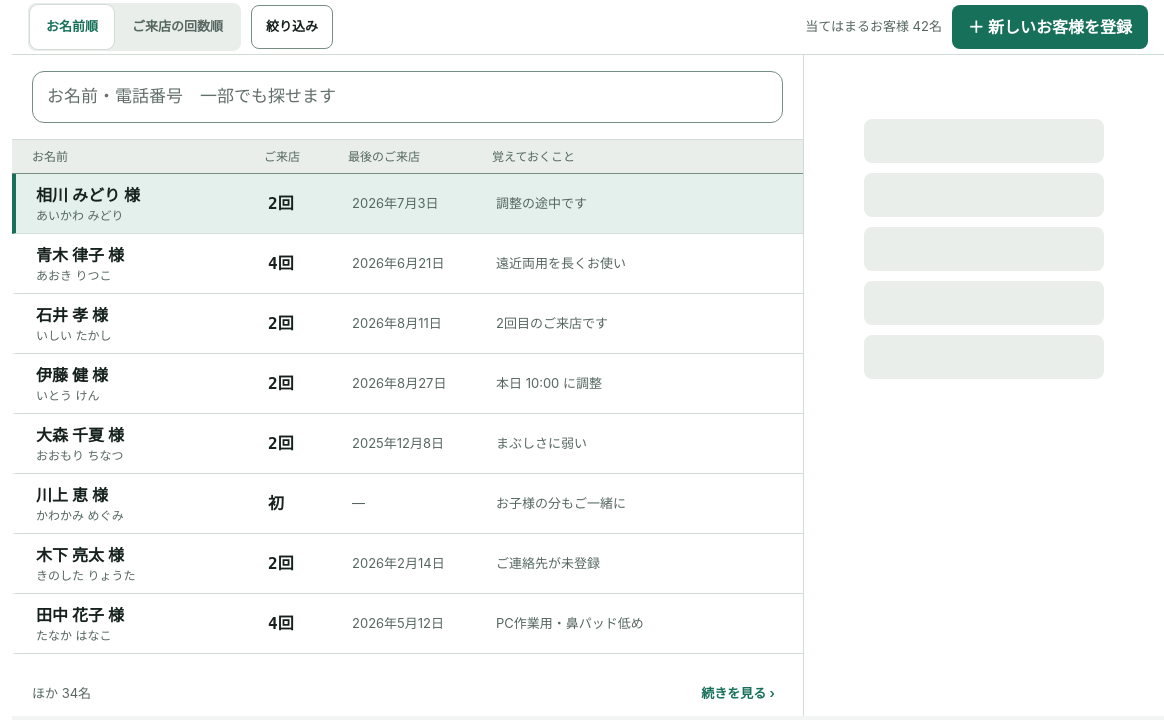
Scenario: 並べ方と絞り込み › 札を付けても、選んでいた行の選択が外れない
The width and height of the screenshot is (1164, 720).
Click the option "田中 花子 様 たなか はなこ 4回 2026年5月12日 PC作業用・鼻パッド低め".
click(408, 624)  # box [12,594,803,654]
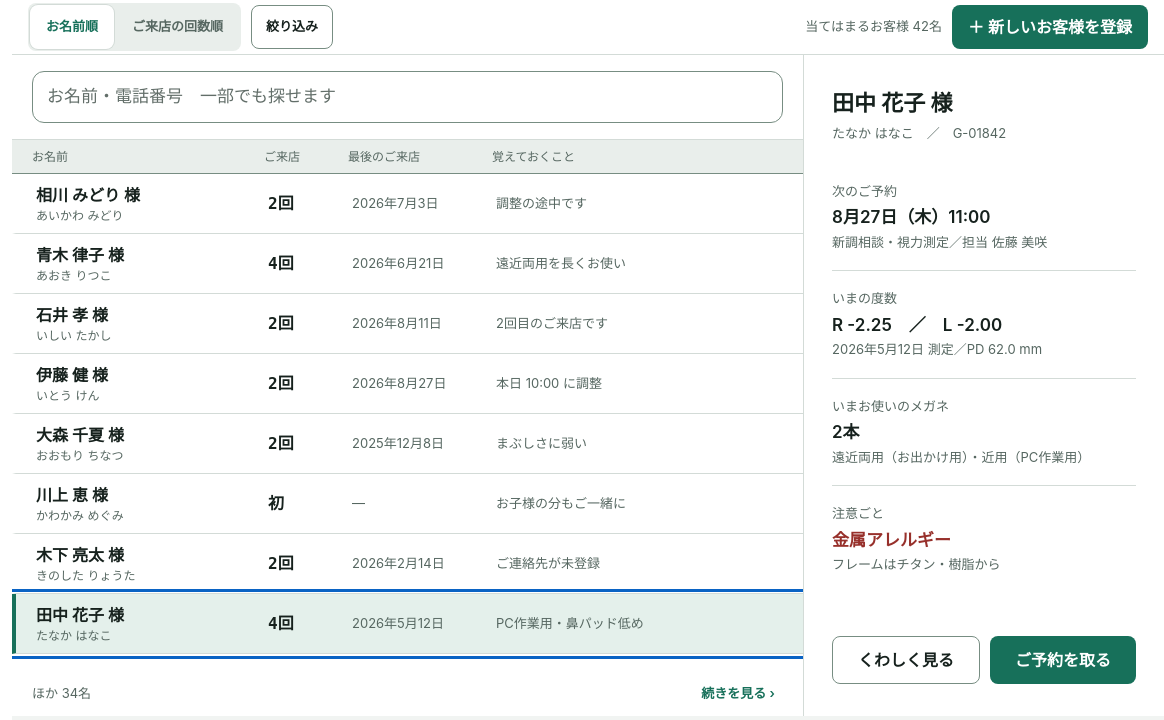
expect the option "田中 花子 様 たなか はなこ 4回 2026年5月12日 PC作業用・鼻パッド低め" is selected: met, box [12,594,803,654]
Click the button "絞り込み".
click(292, 27)  # box [251,5,333,49]
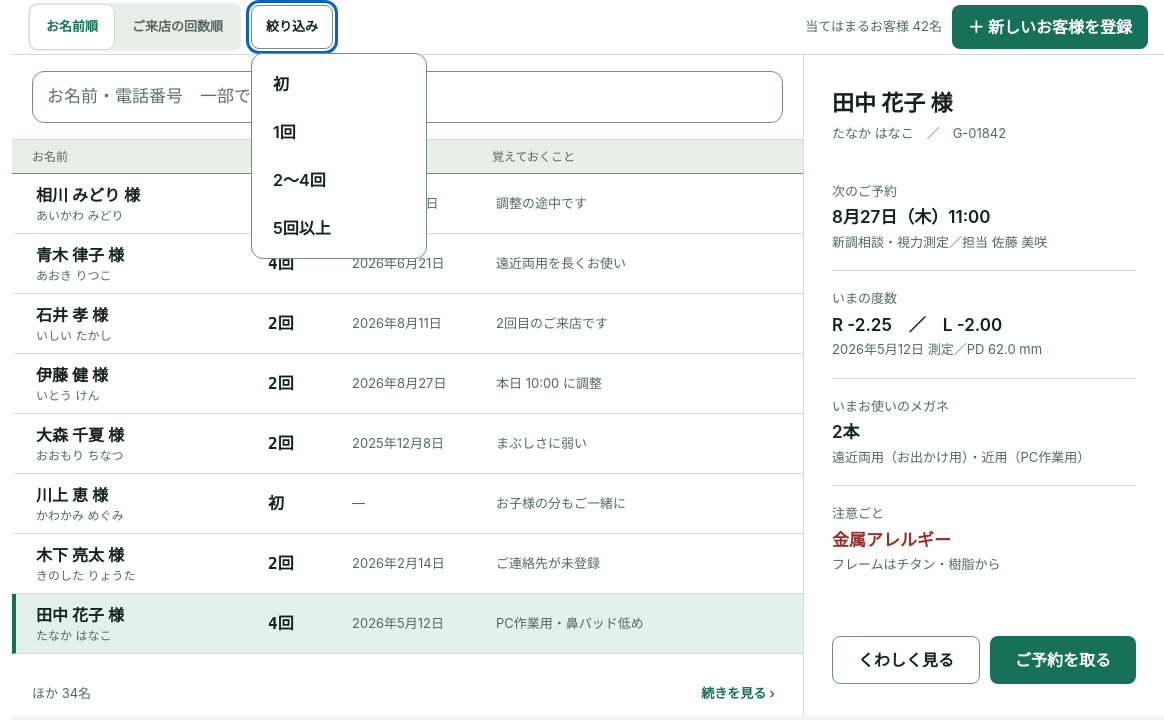
Click the button "2〜4回".
click(339, 180)  # box [260,158,418,202]
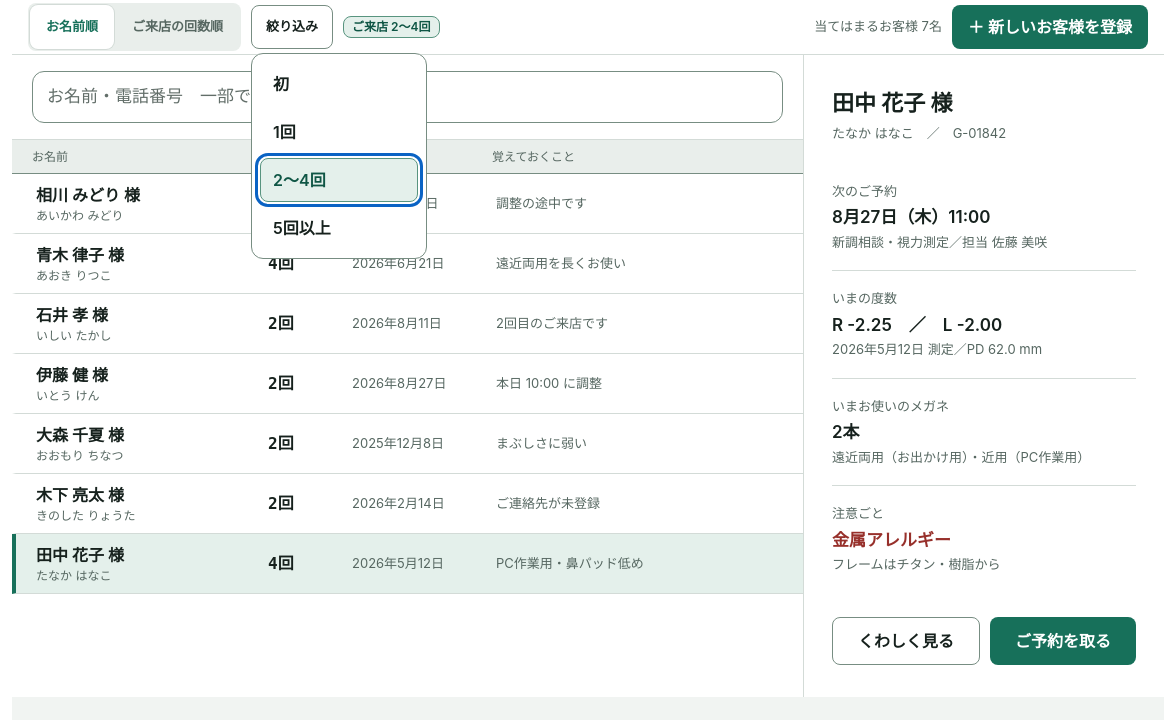
expect the heading "田中 花子 様" is shown: met, box [832,90,952,116]
expect the text "ご来店 2〜4回" is shown: met, box [343,16,440,38]
